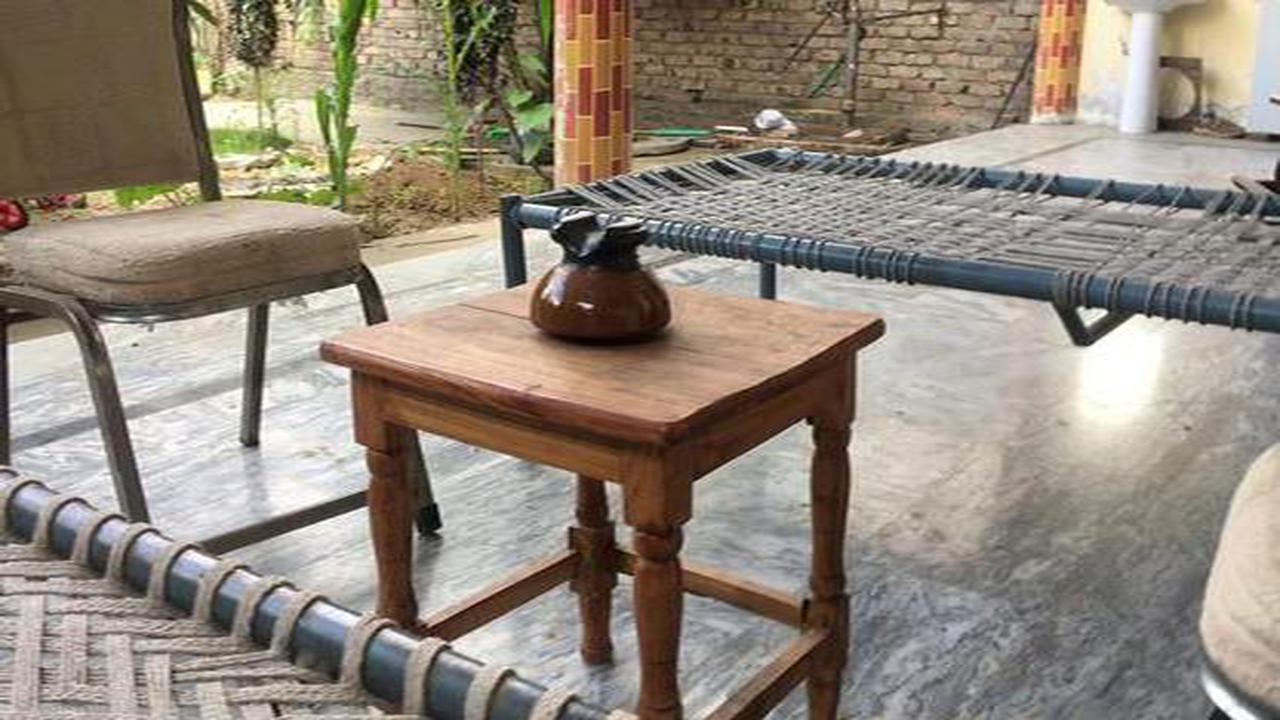insulator_pin: (511, 196, 677, 361)
